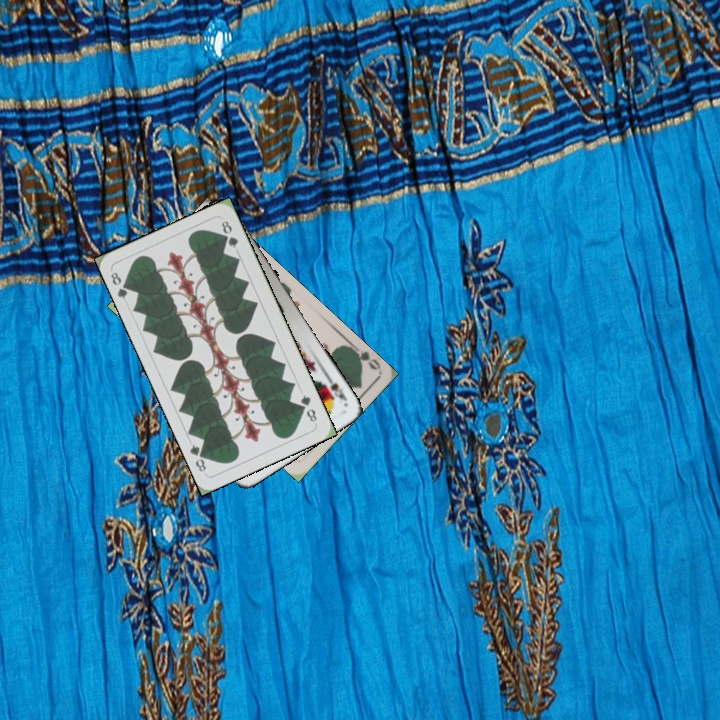G8: (106, 268, 134, 302), (296, 390, 320, 425)
GO: (346, 340, 383, 373)
SK: (320, 370, 350, 404)
